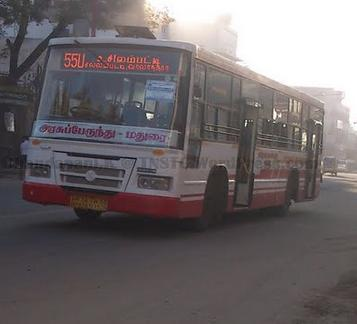Bus: (21, 36, 326, 231)
